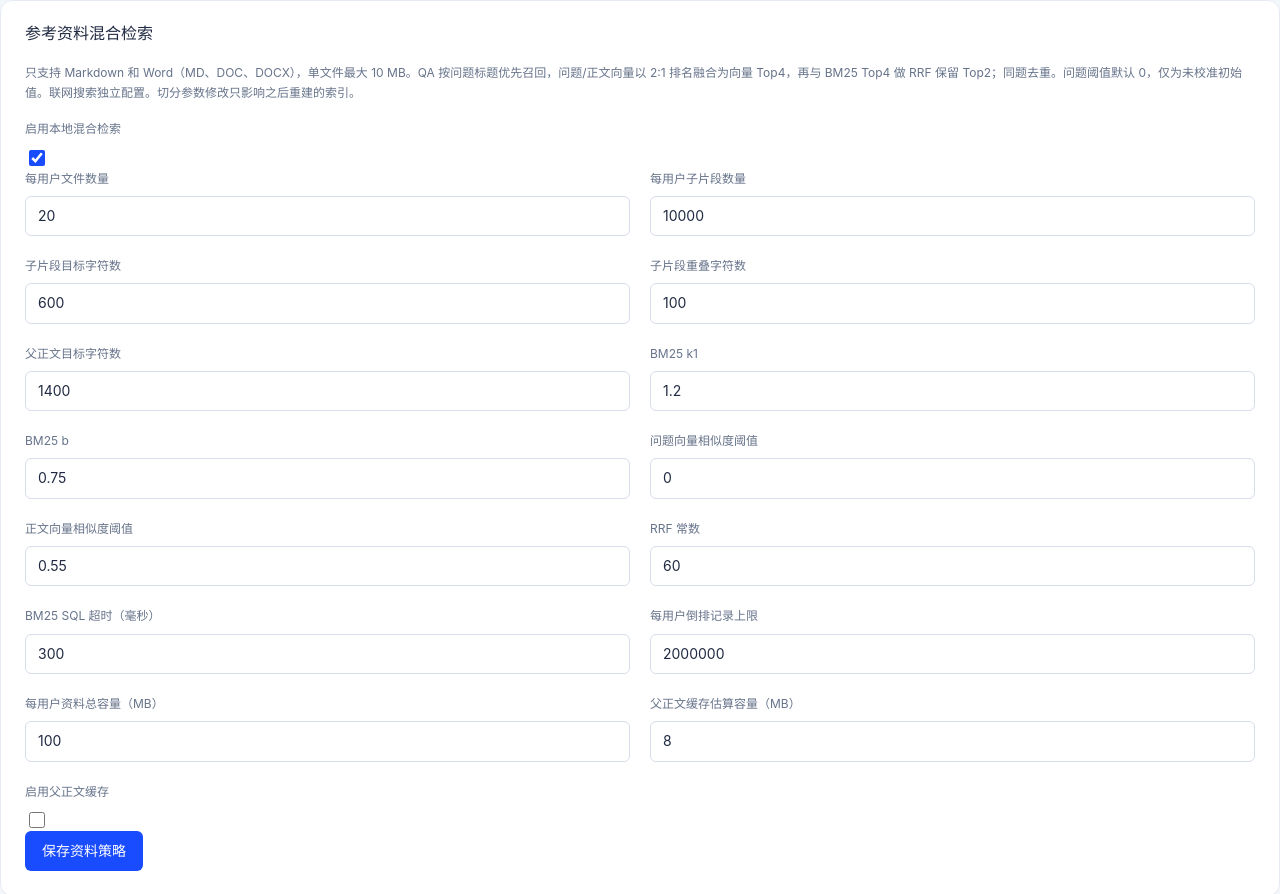
it: reference upload policy › loads user limits and saves capacity in bytes
The width and height of the screenshot is (1280, 894).
Expected: the text "向量 Top4，再与 BM25 Top4 做 RRF 保留 Top2" is shown, left=25, top=65, right=1242, bottom=100
Expected: the number field labelled "问题向量相似度阈值" holds "0", left=650, top=458, right=1255, bottom=499
Step 1. Replace the text in the number field labelled "每用户资料总容量（MB）" with "50" → (328, 741), box left=25, top=721, right=630, bottom=762
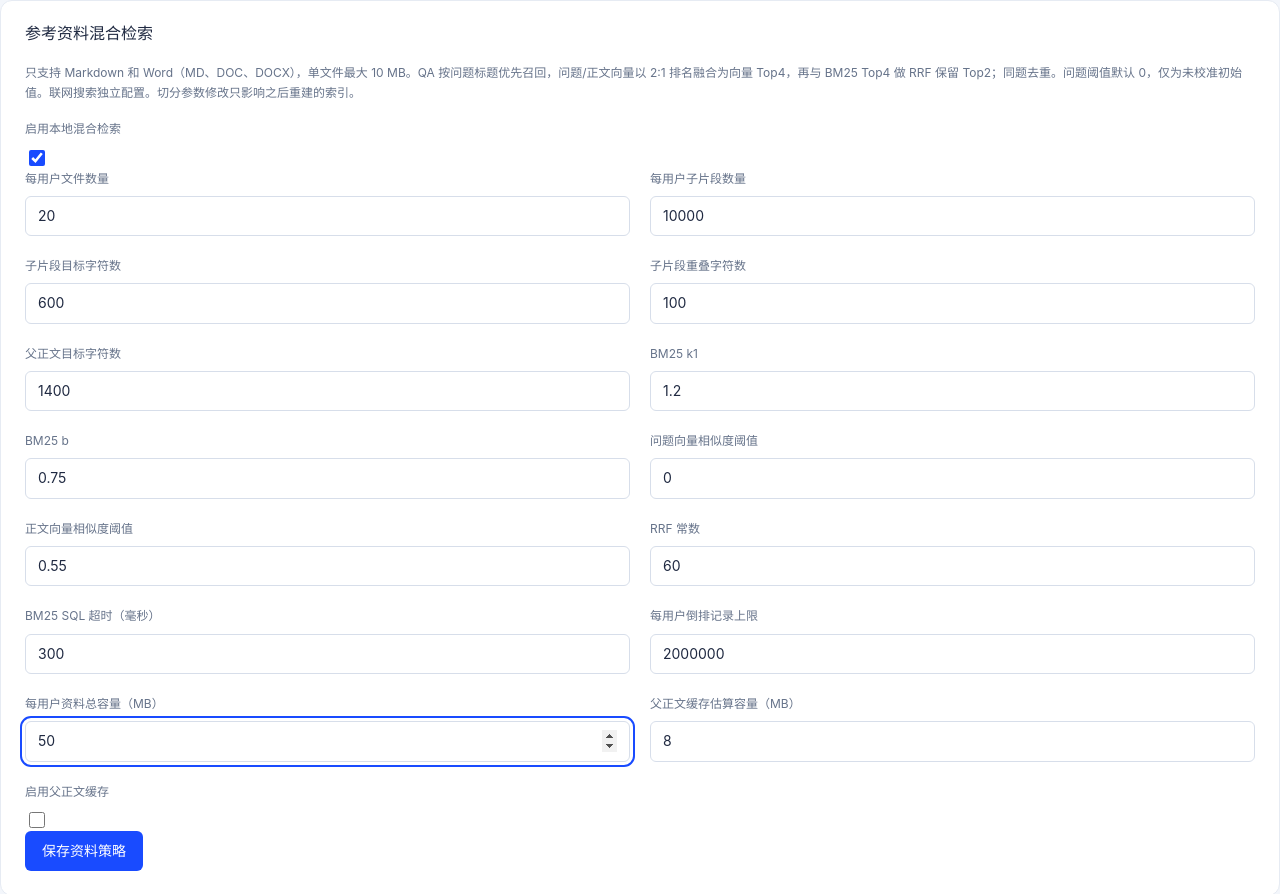
Step 2. Click the button "保存资料策略" → (84, 851), box left=25, top=831, right=143, bottom=871
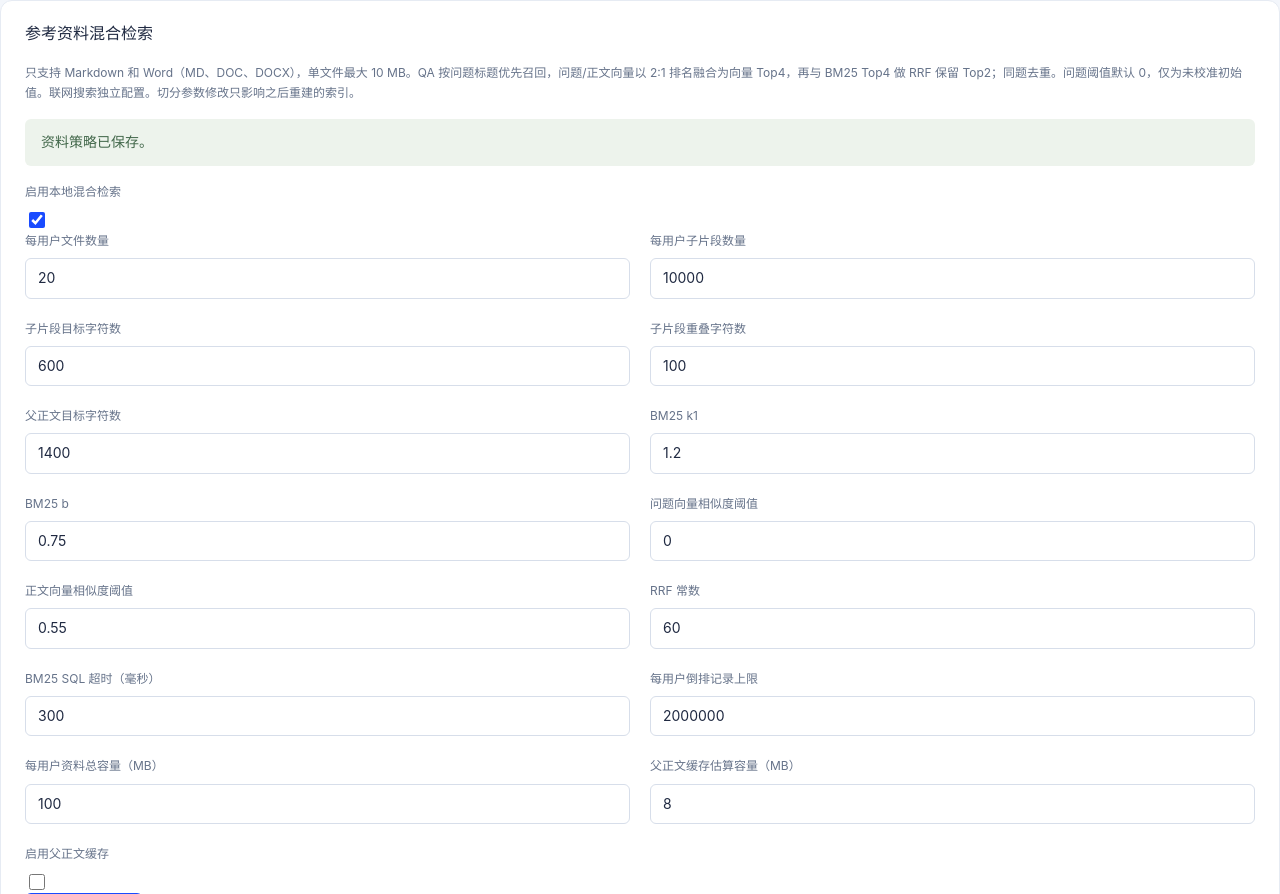
Now the message shows "已保存", box left=25, top=119, right=1255, bottom=166
